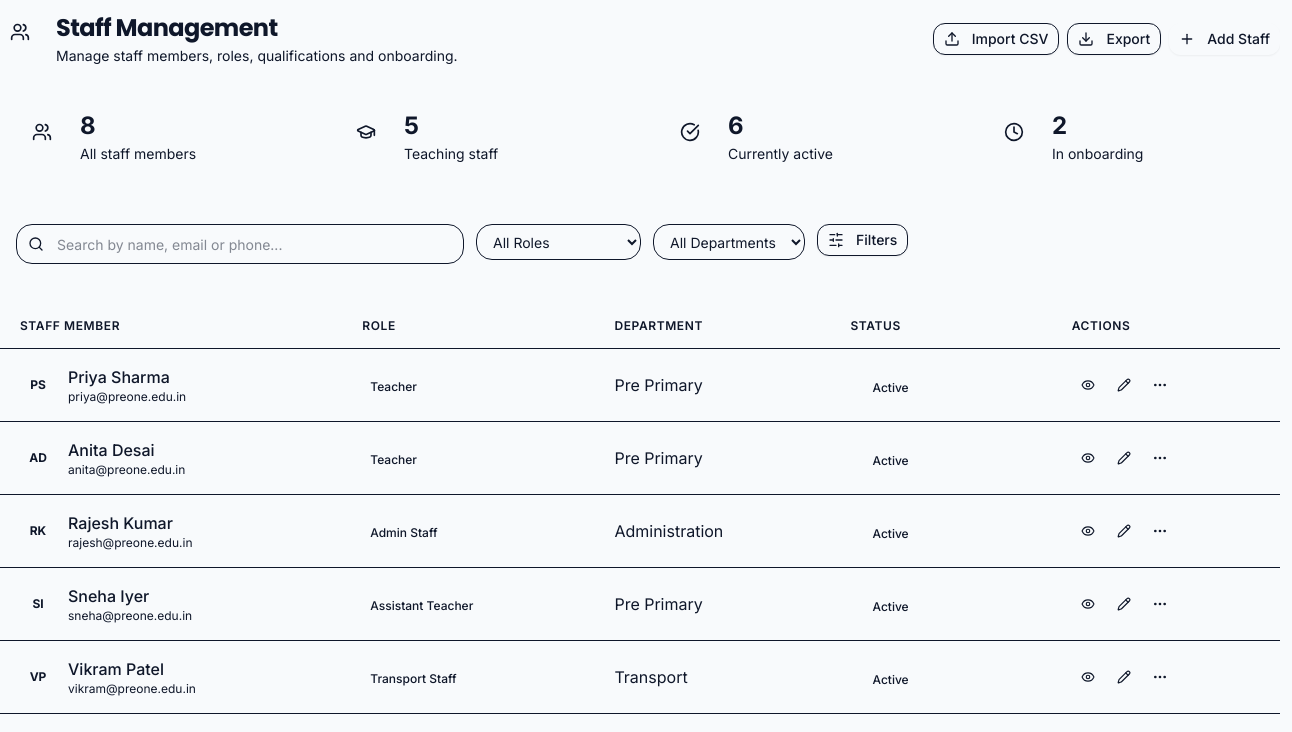
StaffManagementPage › filters staff by email when typing in search
This screenshot has width=1292, height=732.
Type "rajesh@" into the field with placeholder "Search by name, email or phone..." at coordinates (240, 244), box [16, 224, 464, 264]
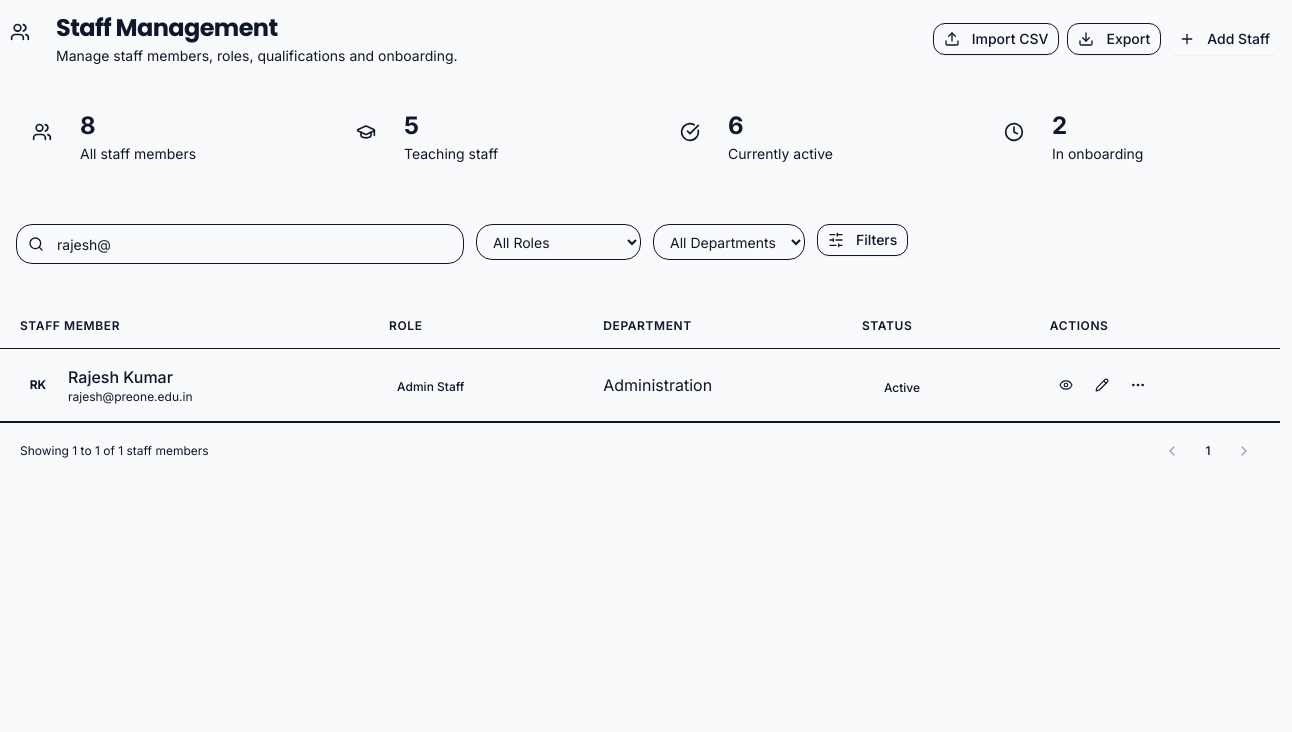
expect the text "Rajesh Kumar" is shown: met, box [68, 367, 173, 387]
expect the text "Priya Sharma" is gone: met
